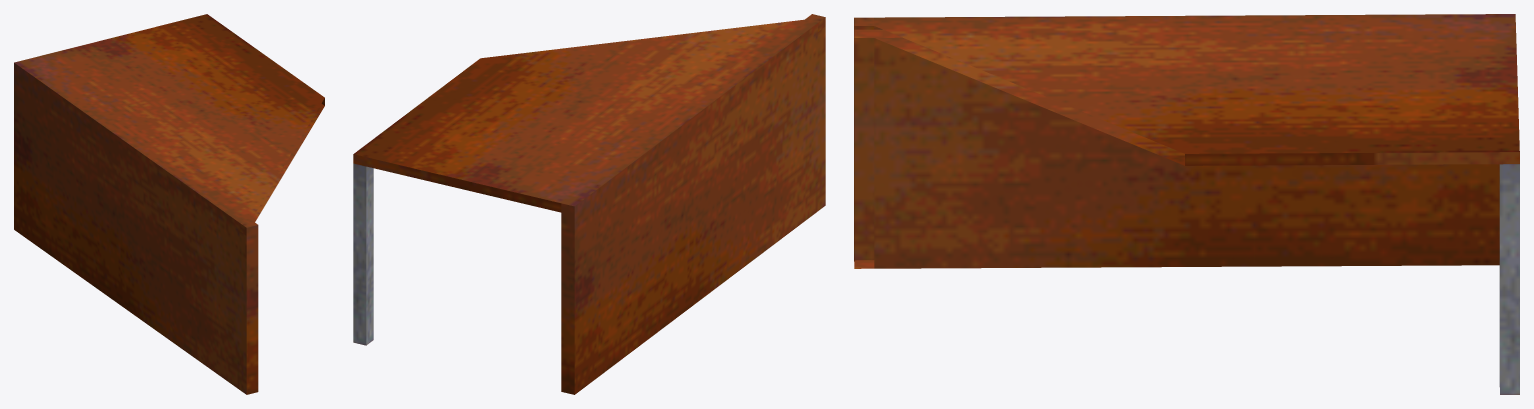
The model's file is desk_corner_03.fbx.
The picture shows the model from 3 angles, left to right: view 1: azimuth 30°, elevation 25°; view 2: azimuth 150°, elevation 25°; view 3: azimuth 270°, elevation 25°; orthographic projection. The views are drawn at different scales.
Parts seen in each view (by area): view 1: polySurface11; view 2: polySurface11; view 3: polySurface11.
Part boxes in pixels (box(x1,y1,x2,y2)): polySurface11: box(14, 14, 324, 394); polySurface11: box(353, 14, 825, 394); polySurface11: box(854, 14, 1519, 394).
Bounding box in the file's own units: 110 × 89.11 × 221.
